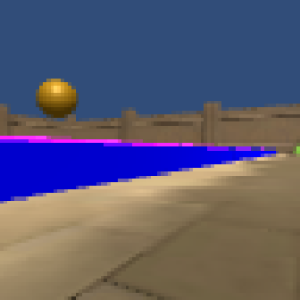goodGoal: (292, 143, 300, 158)
goodGoalMulti: (35, 79, 78, 118)
platform: (1, 147, 272, 197)
ramp: (1, 135, 192, 144)
